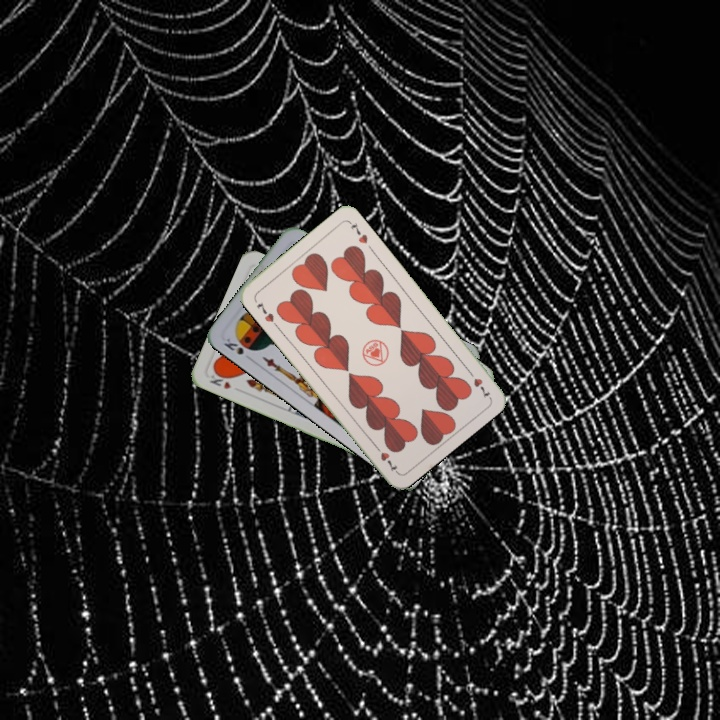H7: (463, 365, 493, 401), (252, 298, 277, 325)
HK: (205, 367, 233, 392)
SK: (220, 333, 255, 364)
